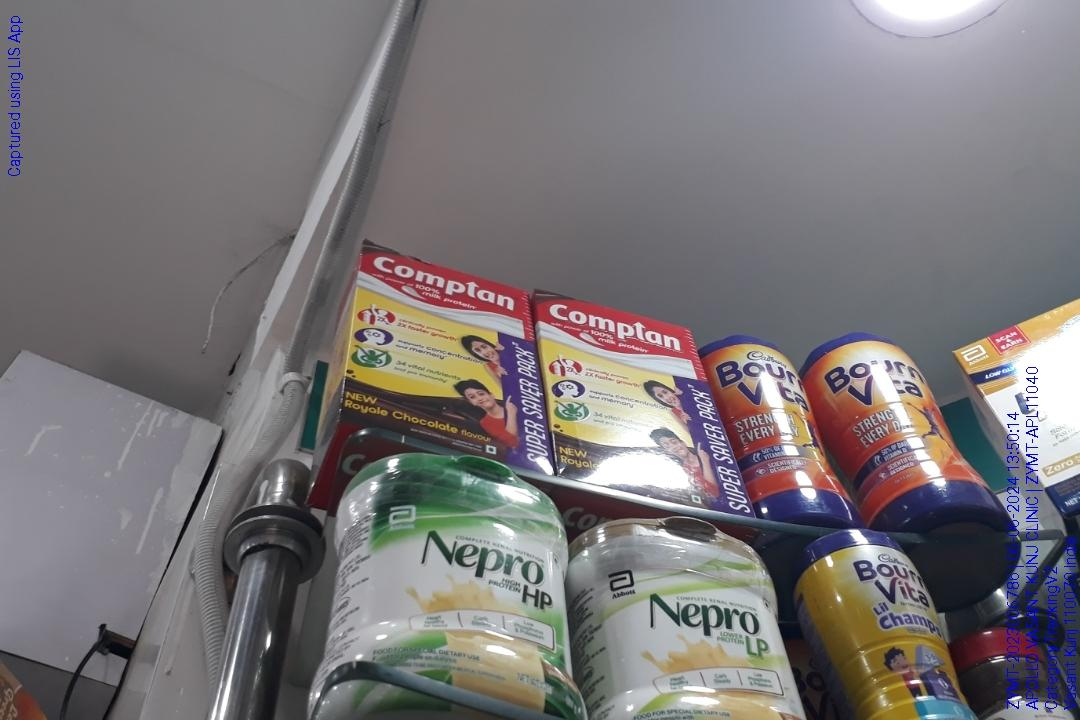BOURN_VITA_1_KG_JAR: (847, 333, 967, 530), (740, 329, 840, 523)
BOURN_VITA_CHAMPS_500_G_JAR: (807, 530, 950, 720)
COMPLAN_CHOCOLATE_1_KG_PACK: (546, 300, 739, 507), (353, 243, 539, 451)
